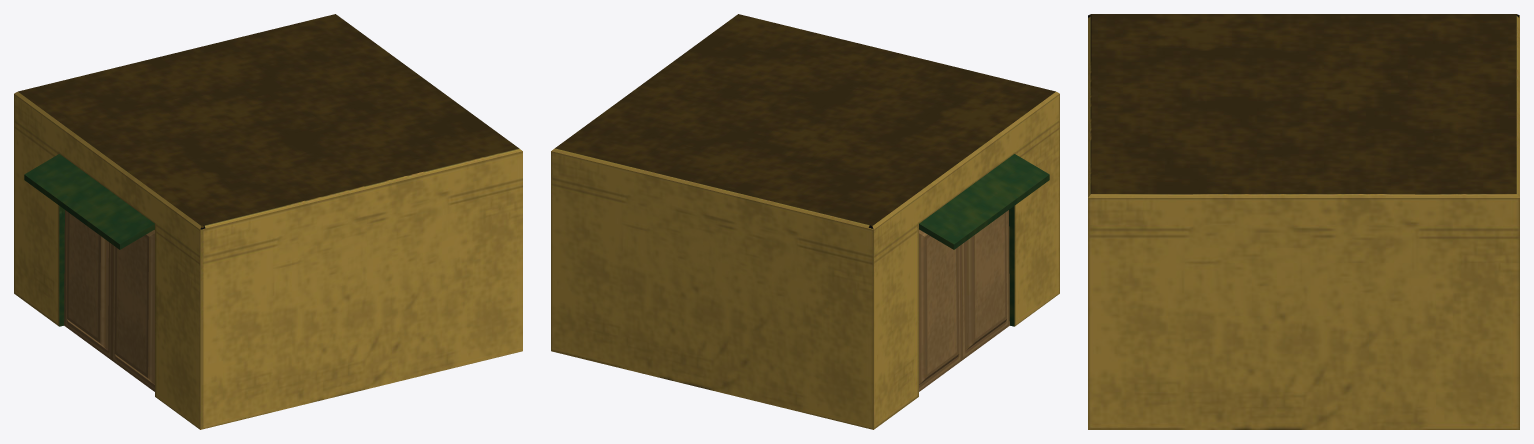
File: flat_with_door.FBX
The picture shows the model from 3 angles, left to right: view 1: azimuth 30°, elevation 25°; view 2: azimuth 150°, elevation 25°; view 3: azimuth 270°, elevation 25°; orthographic projection. The views are drawn at different scales.
Parts seen in each view (by area): view 1: Box001; view 2: Box001; view 3: Box001.
Part boxes in pixels (x1,y1,x2,y2): Box001: (14, 14, 522, 429); Box001: (551, 14, 1059, 429); Box001: (1088, 14, 1519, 429).
Bounding box in the file's own units: 218 × 118 × 197.
